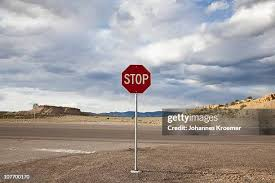stop sign: (121, 65, 151, 93)
